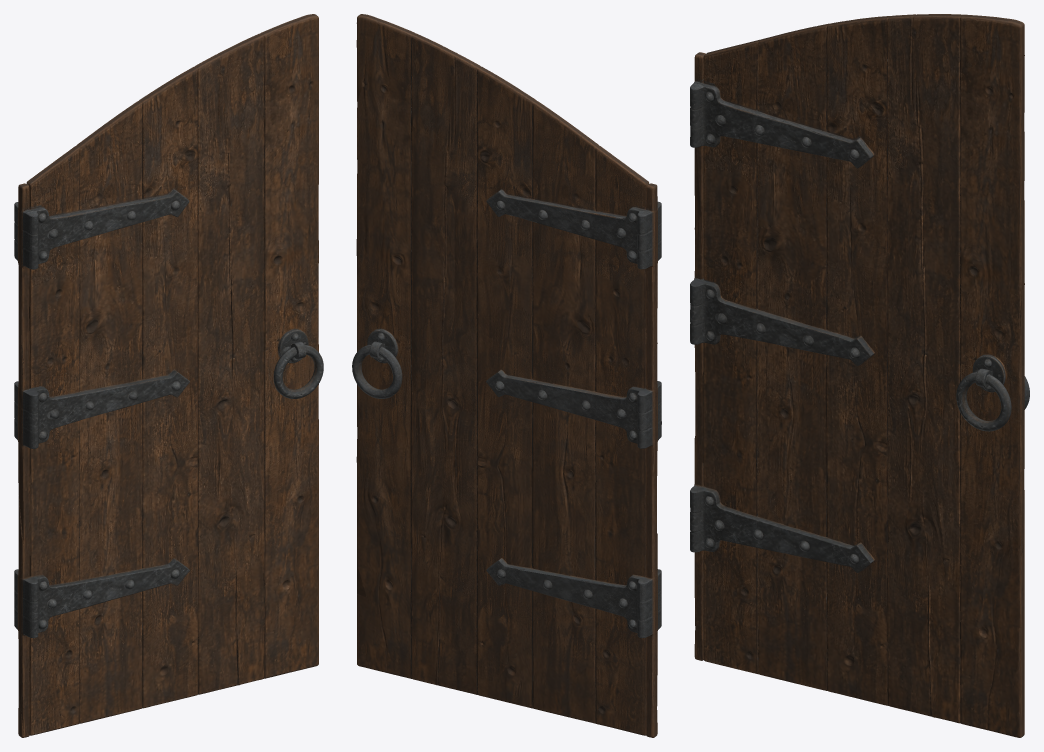
File: door_leaf_oak.glb
The picture shows the model from 3 angles, left to right: view 1: azimuth 30°, elevation 25°; view 2: azimuth 150°, elevation 25°; view 3: azimuth 330°, elevation 25°; orthographic projection. The views are drawn at different scales.
Parts seen in each view (by area): view 1: output_unwrapped; view 2: output_unwrapped; view 3: output_unwrapped.
Boxes of the visible parts, bbox=[...] form: output_unwrapped: bbox=[14, 14, 323, 737]; output_unwrapped: bbox=[352, 14, 661, 737]; output_unwrapped: bbox=[690, 14, 1029, 737].
Bounding box in the file's own units: 0.9118 × 1.9 × 0.1312.
Materials: 1 (1 with a texture image).
